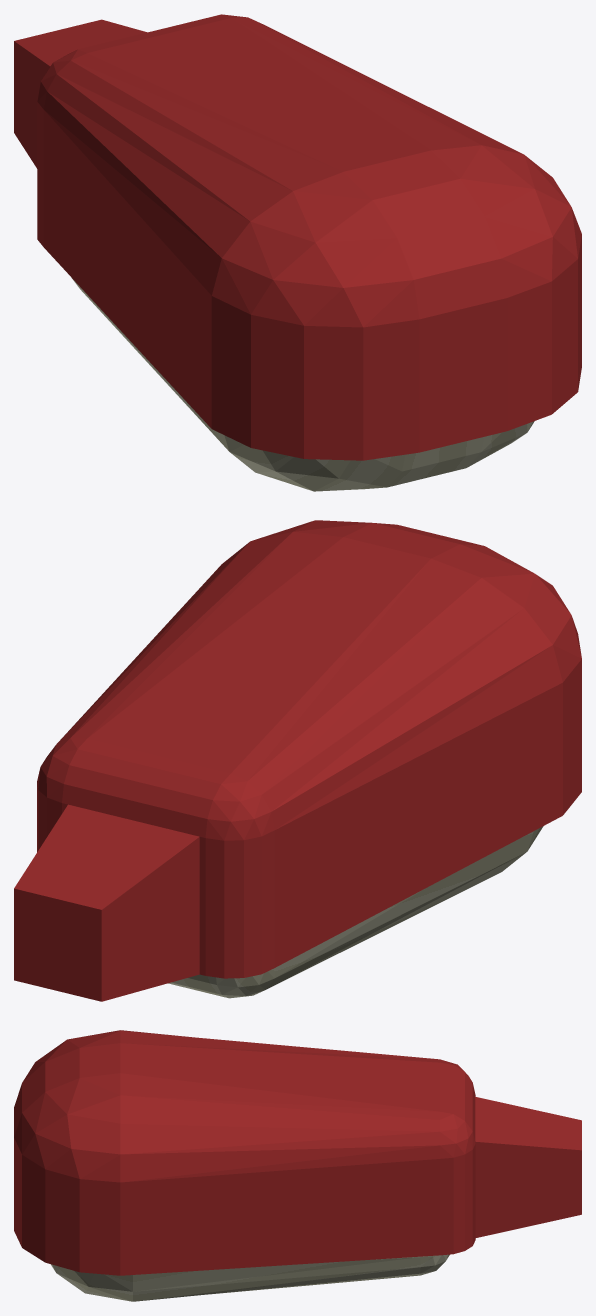
File: RoadLight1.obj
3 views of the same model, one above another, from view 1: azimuth 30°, elevation 25°; view 2: azimuth 150°, elevation 25°; view 3: azimuth 270°, elevation 25° (orthographic). The views are drawn at different scales.
Size of the model in its own units: 1 by 0.8489 by 2.
